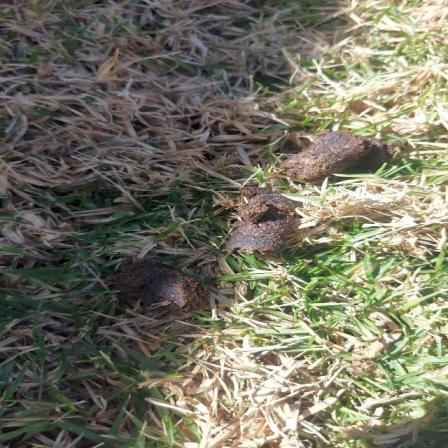dog-poop: (218, 174, 302, 264), (284, 120, 375, 186), (114, 257, 204, 317)
